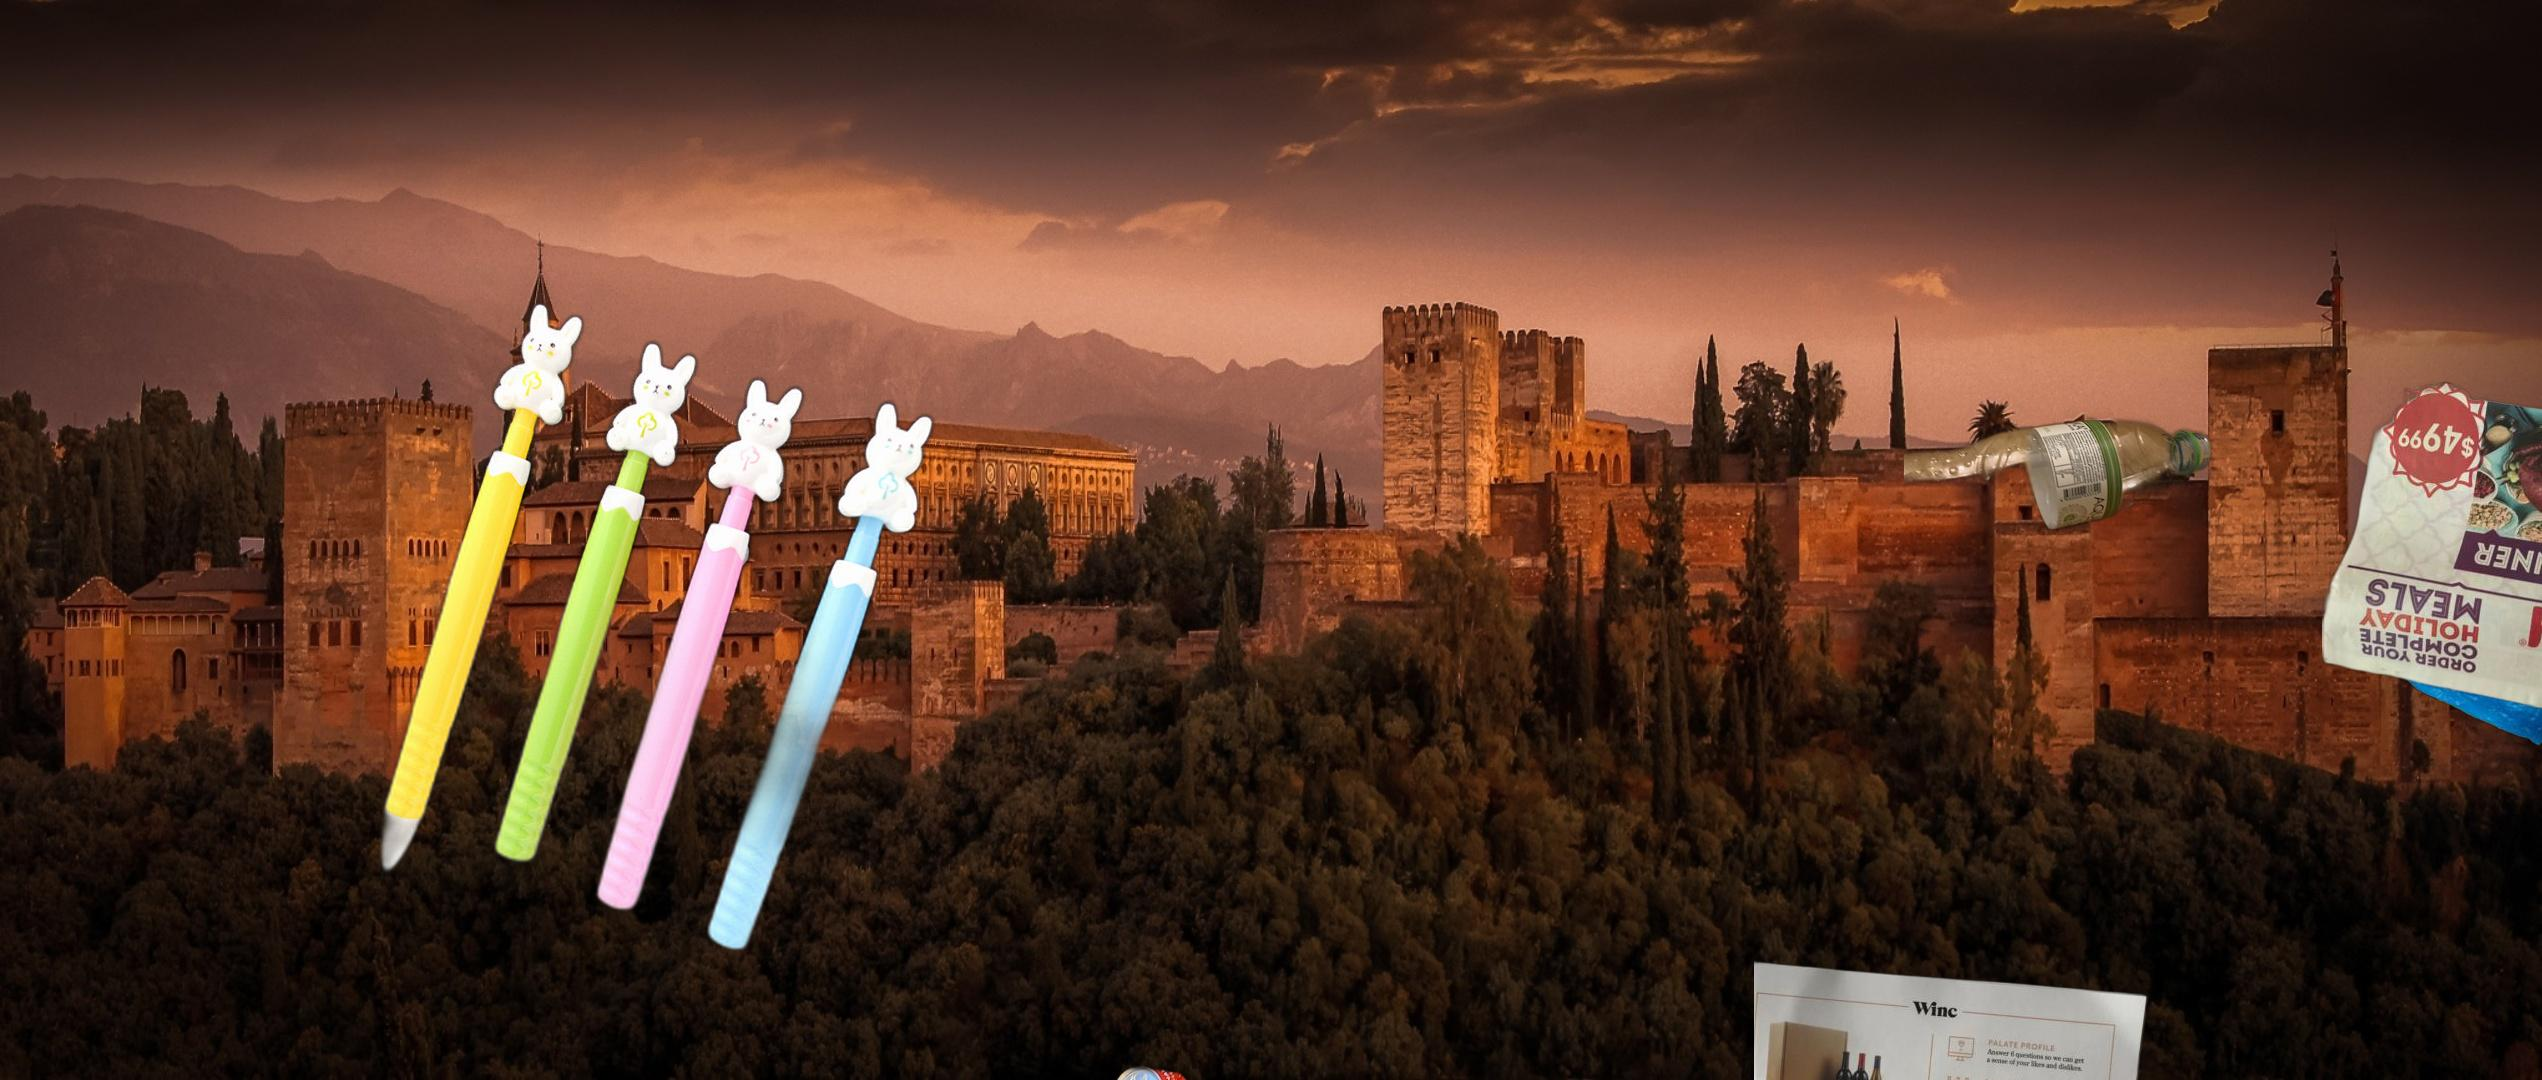metal-cans: (764, 670, 1221, 1080)
paper: (2322, 376, 2542, 709), (1754, 957, 2155, 1080)
penholder: (250, 250, 940, 1009)
plastic-bag: (2383, 561, 2542, 748)
plastic-bottles: (1903, 414, 2223, 710)
